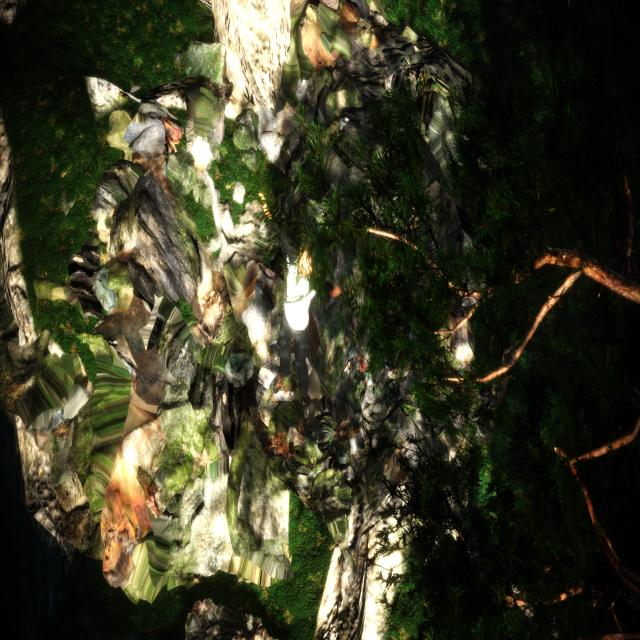Human: (274, 215, 322, 430)
